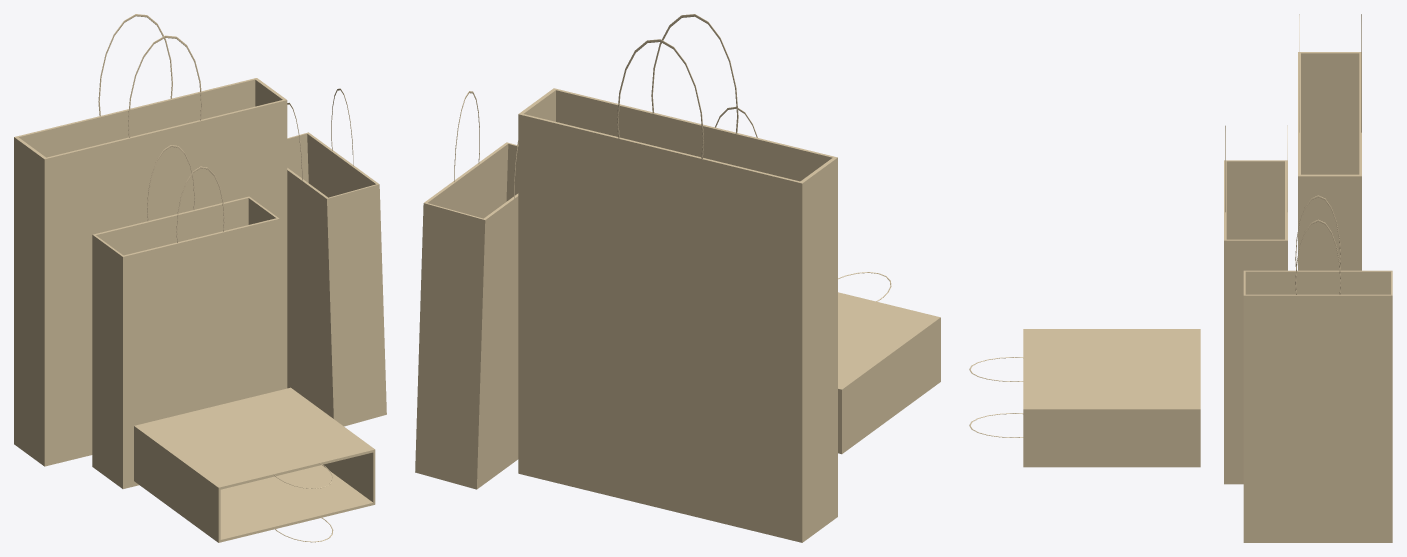
Rendered from bag.fbx.
The picture shows the model from 3 angles, left to right: view 1: azimuth 30°, elevation 25°; view 2: azimuth 150°, elevation 25°; view 3: azimuth 270°, elevation 25°; orthographic projection. The views are drawn at different scales.
Parts seen in each view (by area): view 1: pCube2, pCube3, pCube4, pCube5; view 2: pCube2, pCube5, pCube4; view 3: pCube5, pCube4, pCube2, pCube3.
Part boxes in pixels (x1,y1,x2,y2): pCube2: [14, 14, 287, 466]; pCube3: [92, 145, 279, 488]; pCube4: [134, 387, 375, 542]; pCube5: [287, 88, 386, 426]; pCube2: [518, 14, 837, 542]; pCube5: [415, 91, 518, 489]; pCube4: [838, 272, 940, 454]; pCube5: [1243, 195, 1392, 542]; pCube4: [969, 329, 1200, 467]; pCube2: [1298, 14, 1361, 270]; pCube3: [1224, 125, 1287, 484].
Size of the model in its own units: 8.82 by 10.89 by 9.74.
